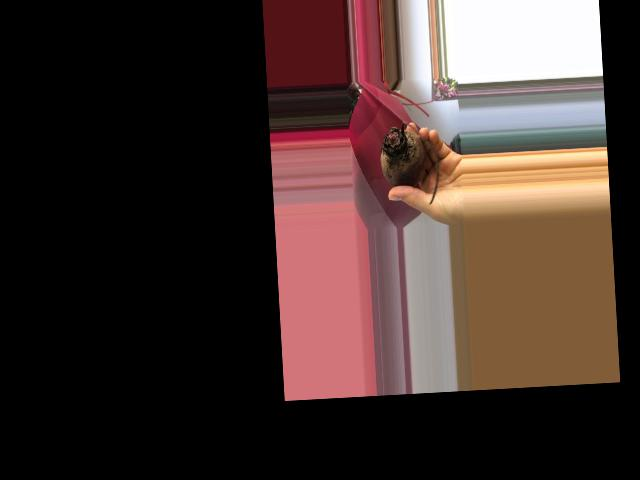beet: (378, 118, 440, 207)
